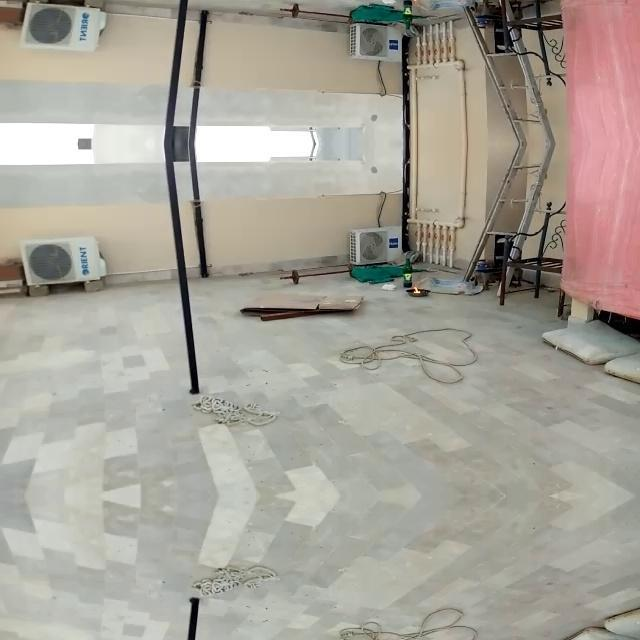smoke: (412, 284, 422, 296)
